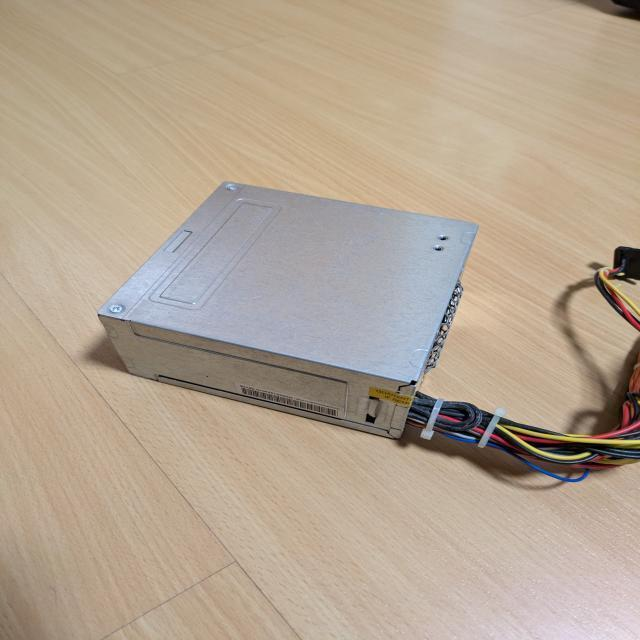PSU: (96, 179, 481, 441)
